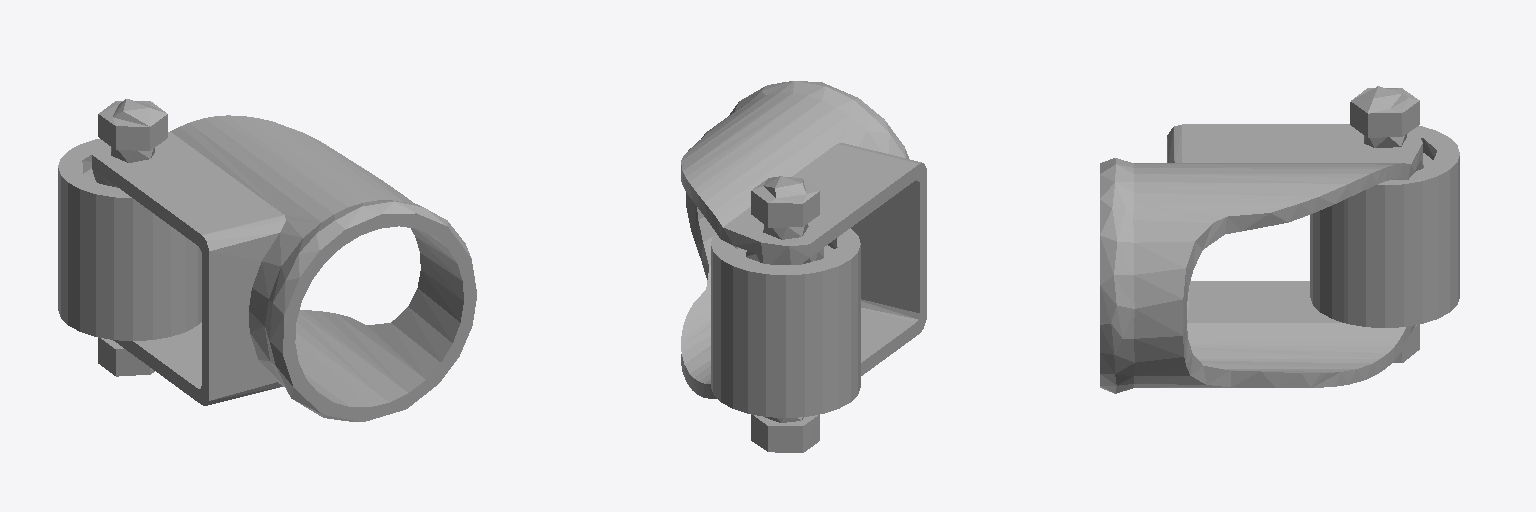
File: caster_1.obj
3 views of the same model, side by side, from view 1: azimuth 30°, elevation 25°; view 2: azimuth 150°, elevation 25°; view 3: azimuth 270°, elevation 25° (orthographic).
Visible parts, largest first — view 1: caster_1; view 2: caster_1; view 3: caster_1.
Boxes of the visible parts, x1=… form: caster_1: x1=58, y1=99, x2=476, y2=421; caster_1: x1=681, y1=81, x2=926, y2=452; caster_1: x1=1100, y1=86, x2=1459, y2=393.
Size of the model in its own units: 0.0416 by 0.038 by 0.048.